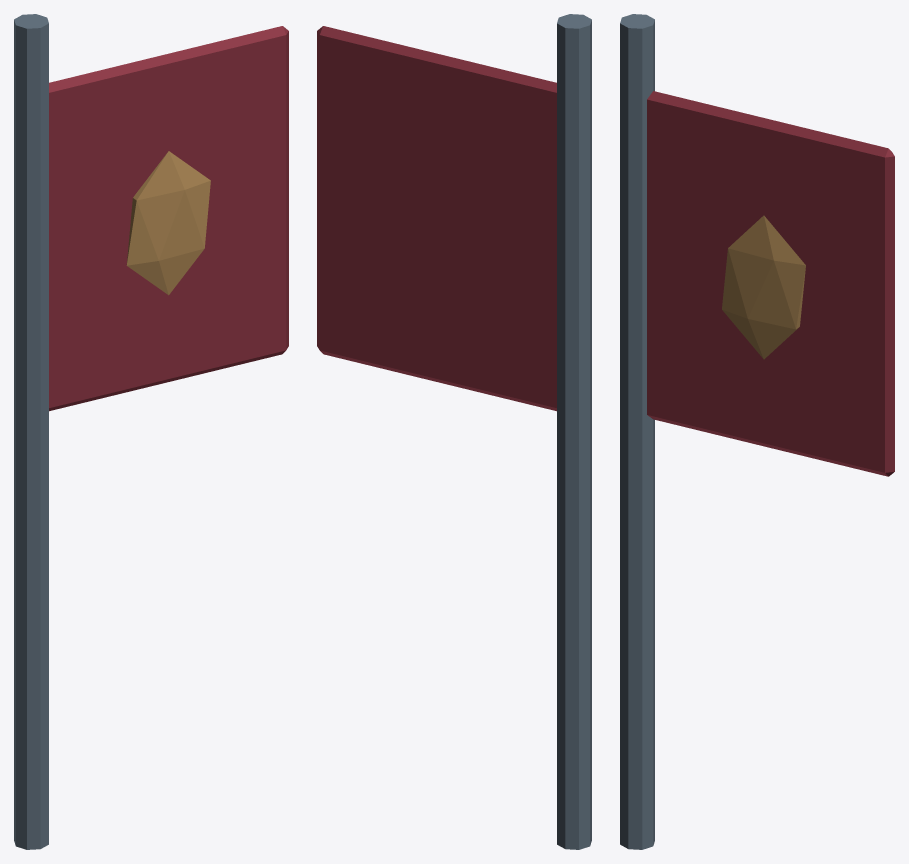
Rendered from SH10_L08_Banner.fbx.
3 views of the same model, side by side, from view 1: azimuth 30°, elevation 25°; view 2: azimuth 150°, elevation 25°; view 3: azimuth 330°, elevation 25° (orthographic).
Visible parts, largest first — view 1: SH10_L08_Banner; view 2: SH10_L08_Banner; view 3: SH10_L08_Banner.
Boxes of the visible parts, bbox=[...] form: SH10_L08_Banner: bbox=[14, 14, 288, 849]; SH10_L08_Banner: bbox=[317, 14, 591, 849]; SH10_L08_Banner: bbox=[620, 14, 894, 849].
Bounding box in the file's own units: 87 × 250 × 10.
